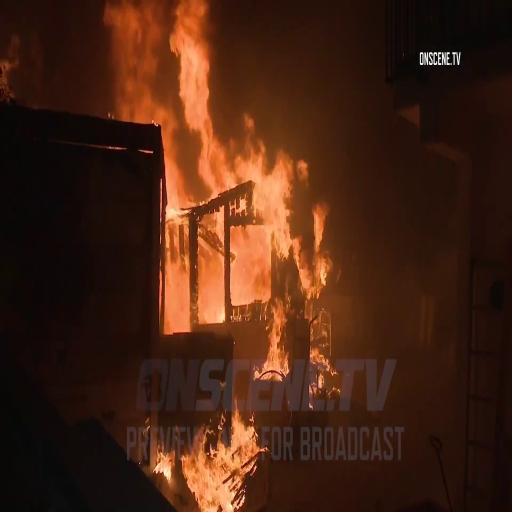fire: (160, 111, 324, 311), (115, 0, 211, 116), (180, 407, 262, 512)
